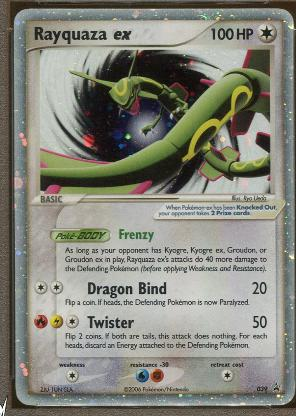Card: (13, 7, 293, 406)
